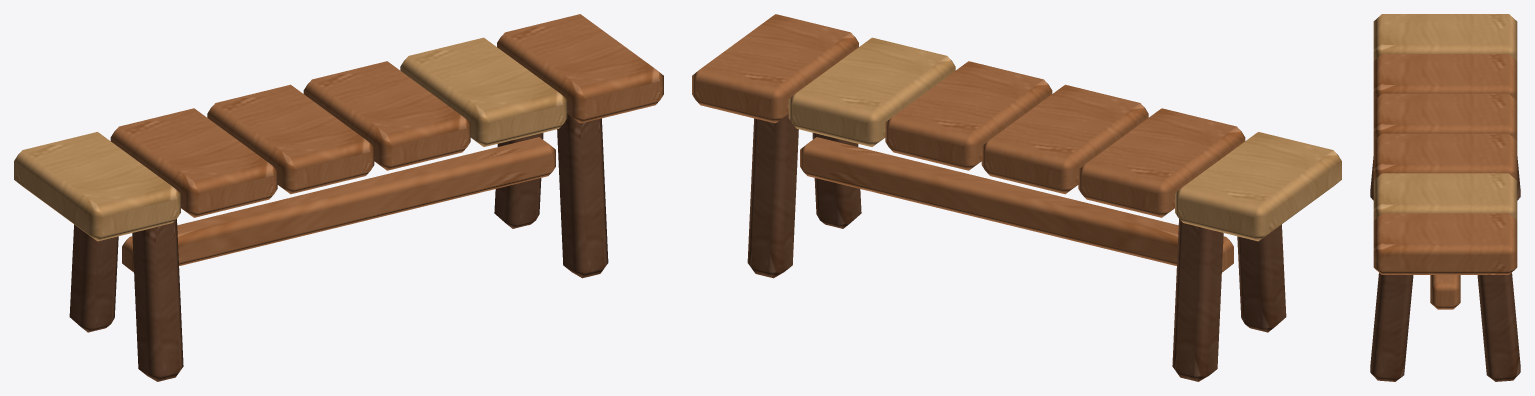
File: SM_Bench.glb
3 renders of one model, left to right at view 1: azimuth 30°, elevation 25°; view 2: azimuth 150°, elevation 25°; view 3: azimuth 270°, elevation 25°, orthographic. The views are drawn at different scales.
Visible parts, largest first — view 1: SM_Bench; view 2: SM_Bench; view 3: SM_Bench.
Boxes of the visible parts, x1,y1,x2,y2 form: SM_Bench: (14,14,663,381); SM_Bench: (692,14,1341,381); SM_Bench: (1370,14,1520,381).
Size of the model in its own units: 1.49 by 0.472 by 0.3981.
Materials: 1 (1 with a texture image).
